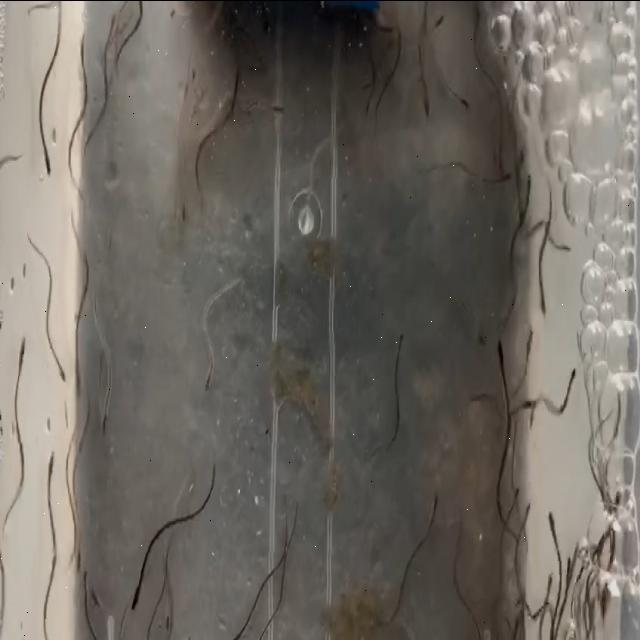active_glass_eel: (512, 151, 534, 198), (229, 49, 247, 100), (54, 341, 70, 398), (606, 472, 624, 518), (562, 231, 578, 281), (546, 505, 562, 554), (98, 392, 114, 440), (386, 332, 408, 366), (128, 580, 143, 628), (536, 566, 556, 602), (505, 480, 526, 512), (538, 279, 552, 327), (420, 483, 440, 516), (128, 0, 146, 36), (162, 598, 178, 638), (558, 519, 570, 572), (71, 535, 87, 573), (489, 337, 508, 368), (467, 612, 488, 640), (200, 372, 216, 406), (488, 154, 504, 188), (515, 383, 531, 417), (73, 362, 85, 406), (97, 0, 112, 35), (562, 358, 577, 393), (418, 91, 436, 120), (64, 183, 84, 209), (15, 100, 33, 128), (15, 326, 26, 371), (454, 73, 470, 103), (41, 449, 57, 479), (476, 320, 490, 354), (430, 8, 448, 34), (86, 574, 98, 612), (266, 99, 285, 122), (44, 148, 56, 182), (80, 564, 90, 602), (68, 536, 80, 566), (228, 618, 244, 640), (178, 212, 188, 238)
